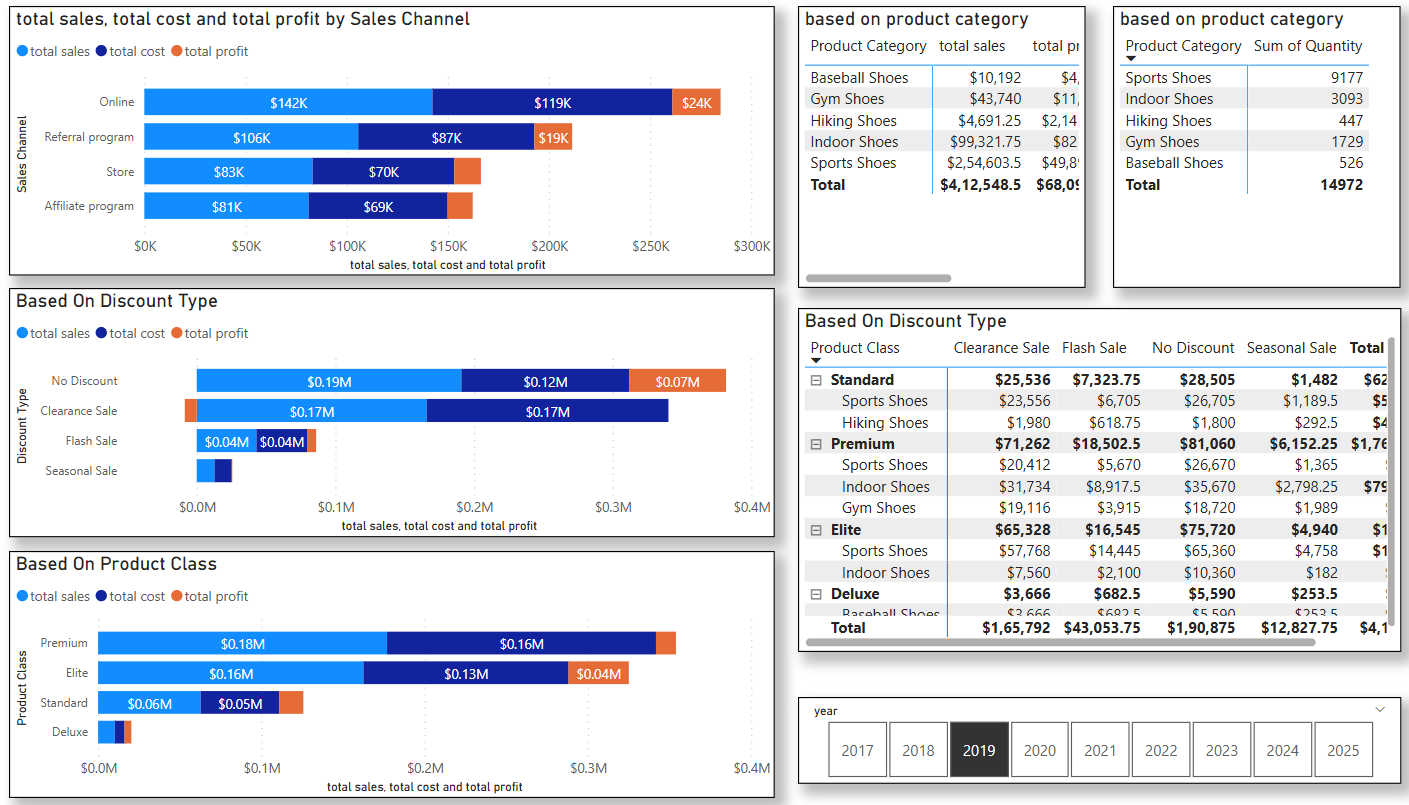

What the dashboard file says about the page in this screenshot:
{"tool":"powerbi","page":{"name":"Page 3","canvas":[1280,720],"ordinal":2},"visuals":[{"type":"barChart","fields":{"Category":["Sales Data.Sales Channel"],"Y":["ALL Measures.total sales","ALL Measures.total cost","ALL Measures.total profit"]},"box":[9.1,10,679.1,239.1],"z":0},{"type":"slicer","fields":{"Values":["calender table.year"]},"box":[708.2,622.7,534.5,77.3],"z":1000},{"type":"barChart","title":"Based On Discount Type","fields":{"Y":["ALL Measures.total sales","ALL Measures.total cost","ALL Measures.total profit"],"Category":["Sales Data.Discount Type"]},"box":[8.9,259.8,679.2,220.8],"z":2000},{"type":"barChart","title":"Based On Product Class","fields":{"Y":["ALL Measures.total sales","ALL Measures.total cost","ALL Measures.total profit"],"Category":["Sales Data.Product Class"]},"box":[9.1,492.7,679.1,219.1],"z":3000},{"type":"pivotTable","title":"based on product category","fields":{"Rows":["Sales Data.Product Category"],"Values":["ALL Measures.total sales","ALL Measures.total profit","ALL Measures.total profit %"]},"box":[708.2,10,254.5,250],"z":4000},{"type":"pivotTable","title":"Based On Discount Type","fields":{"Rows":["Sales Data.Product Class","Sales Data.Product Category"],"Columns":["Sales Data.Discount Type"],"Values":["ALL Measures.total sales"]},"box":[708.2,277.3,534.5,305.5],"z":5000},{"type":"pivotTable","title":"based on product category","fields":{"Rows":["Sales Data.Product Category"],"Values":["Sum(Sales Data.Quantity)"]},"box":[988.2,10,254.5,250],"z":6000}]}

Visuals, with their boxes in screenshot pixels (x1, y1, x2, y2), scaled from the page's 1280x720 canvas onto the 1409x805 screenshot:
barChart - Sales Data.Sales Channel x ALL Measures.total sales: 10 11 758 279
slicer - calender table.year: 780 696 1368 783
"Based On Discount Type" barChart: 10 290 757 537
"Based On Product Class" barChart: 10 551 758 796
"based on product category" pivotTable: 780 11 1060 291
"Based On Discount Type" pivotTable: 780 310 1368 652
"based on product category" pivotTable: 1088 11 1368 291
